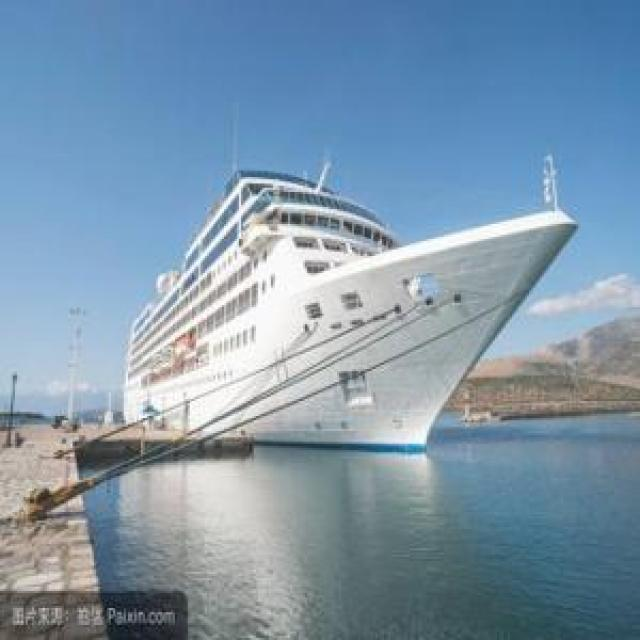passenger ship: (122, 163, 574, 452)
